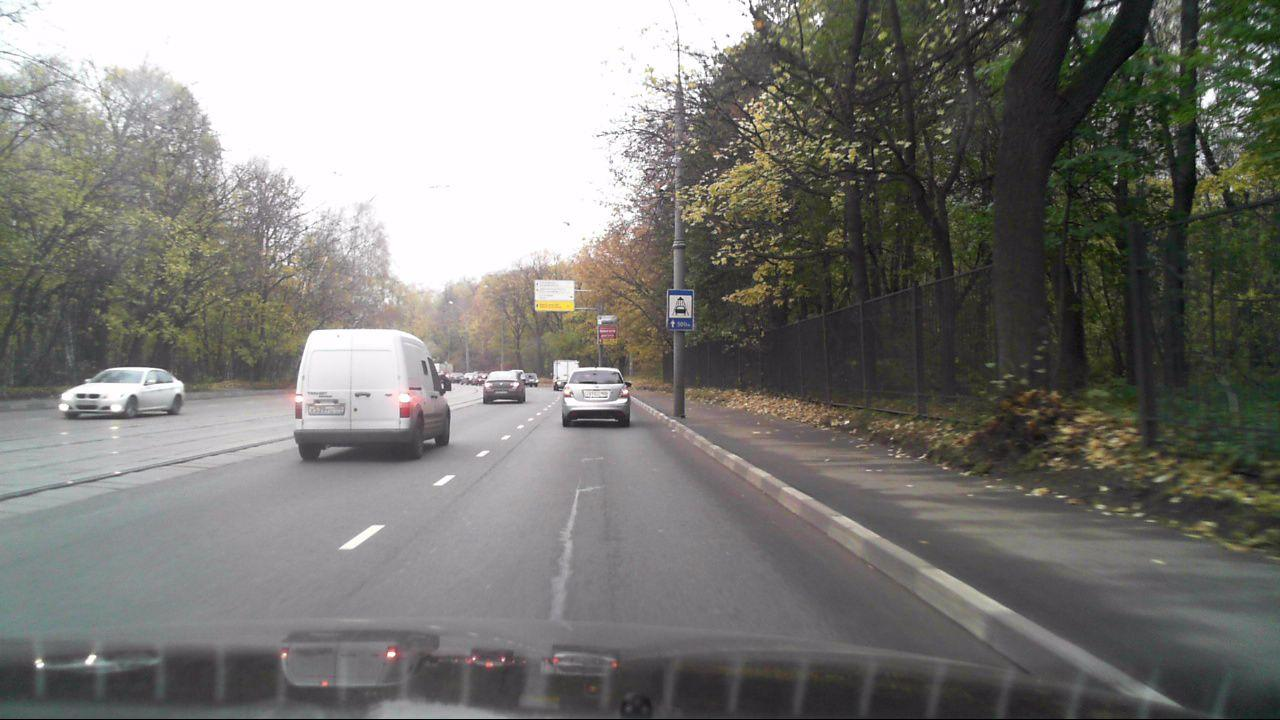7_5: (667, 289, 694, 330)
